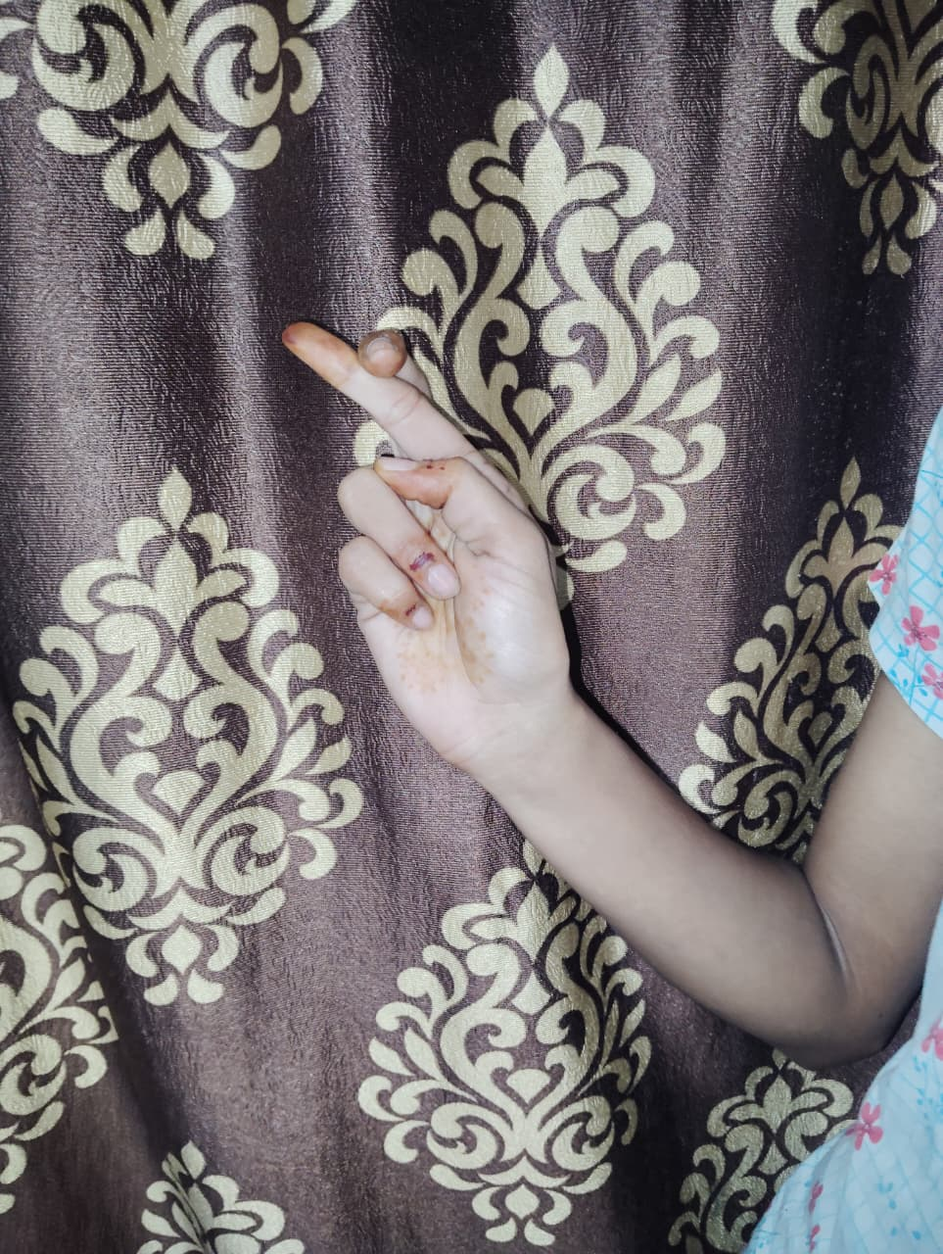R: (279, 320, 571, 744)
